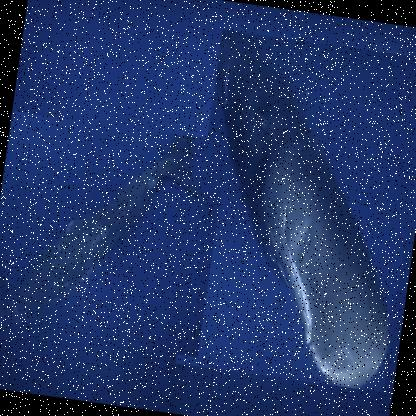sperm_whale: (174, 29, 415, 394), (0, 111, 228, 359)
